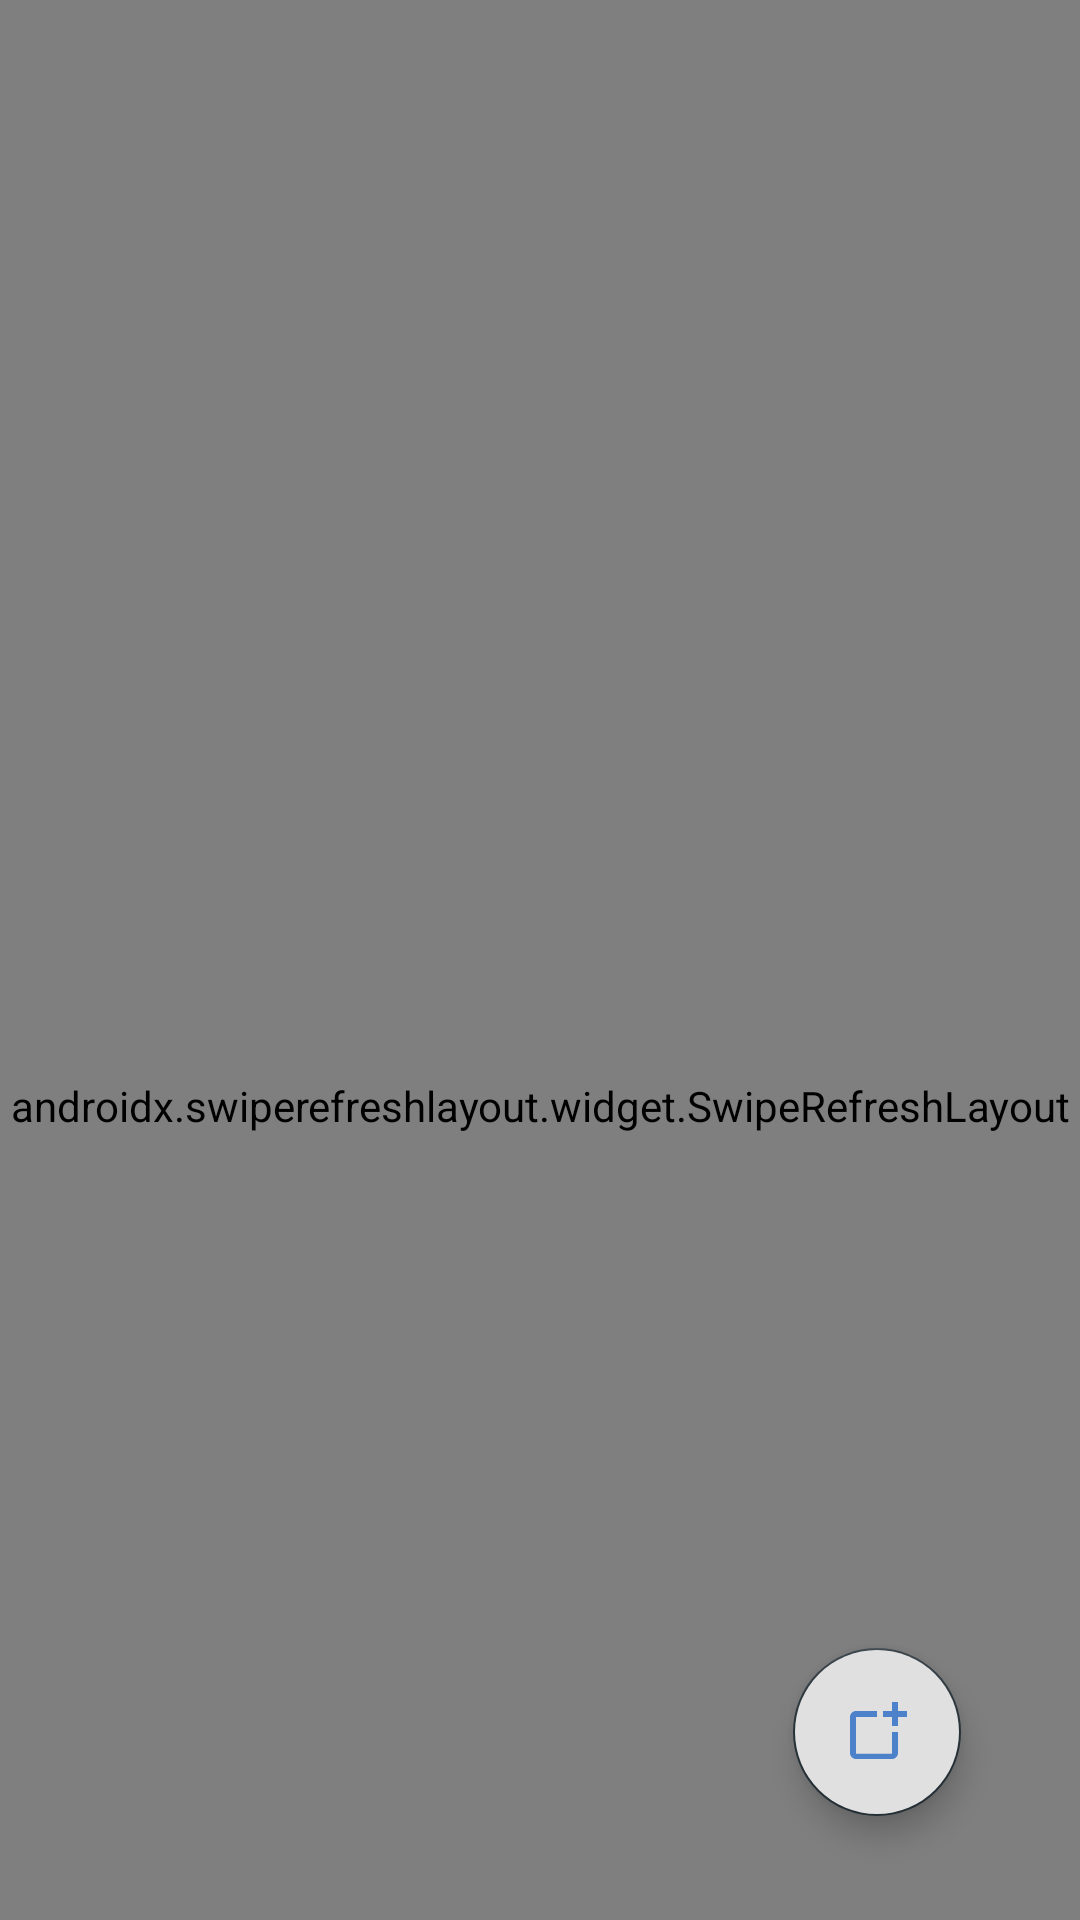

Where to tap for icons on this 1080 x 1920 app screen, as [x,y]:
Create New Tail: [877,1732]
